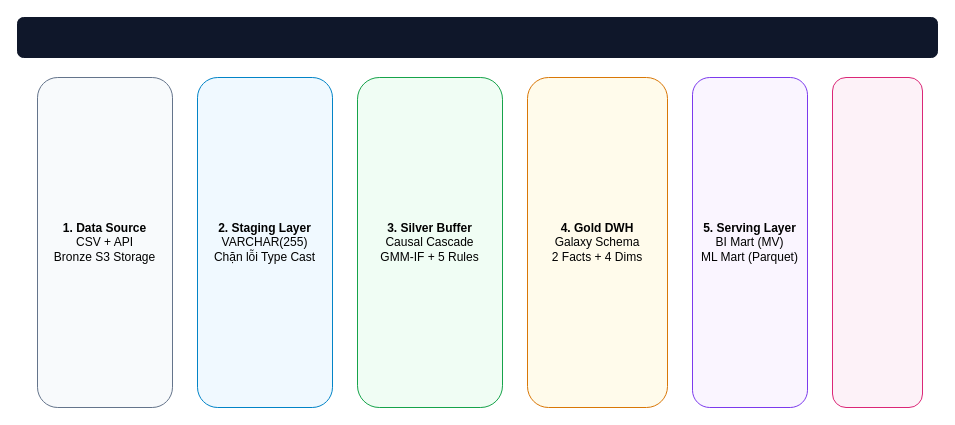
Image size: 955x425. Some labels were removed from this diagram. Here are the shapes that lost their labels. From the top down, the box of each, then its label:
(16, 16, 938, 58): KIẾN TRÚC ĐƯỜNG ỐNG DỮ LIỆU LAKEHOUSE 6 LỚP (6-LAYER LAKEHOUSE PIPELINE)
(832, 76, 922, 408): 6. Tableau BI 3 Dashboards O&M Work Orders
